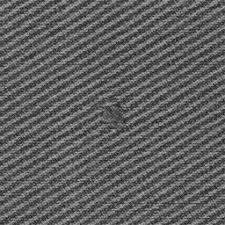Hole: (80, 87, 147, 134)
